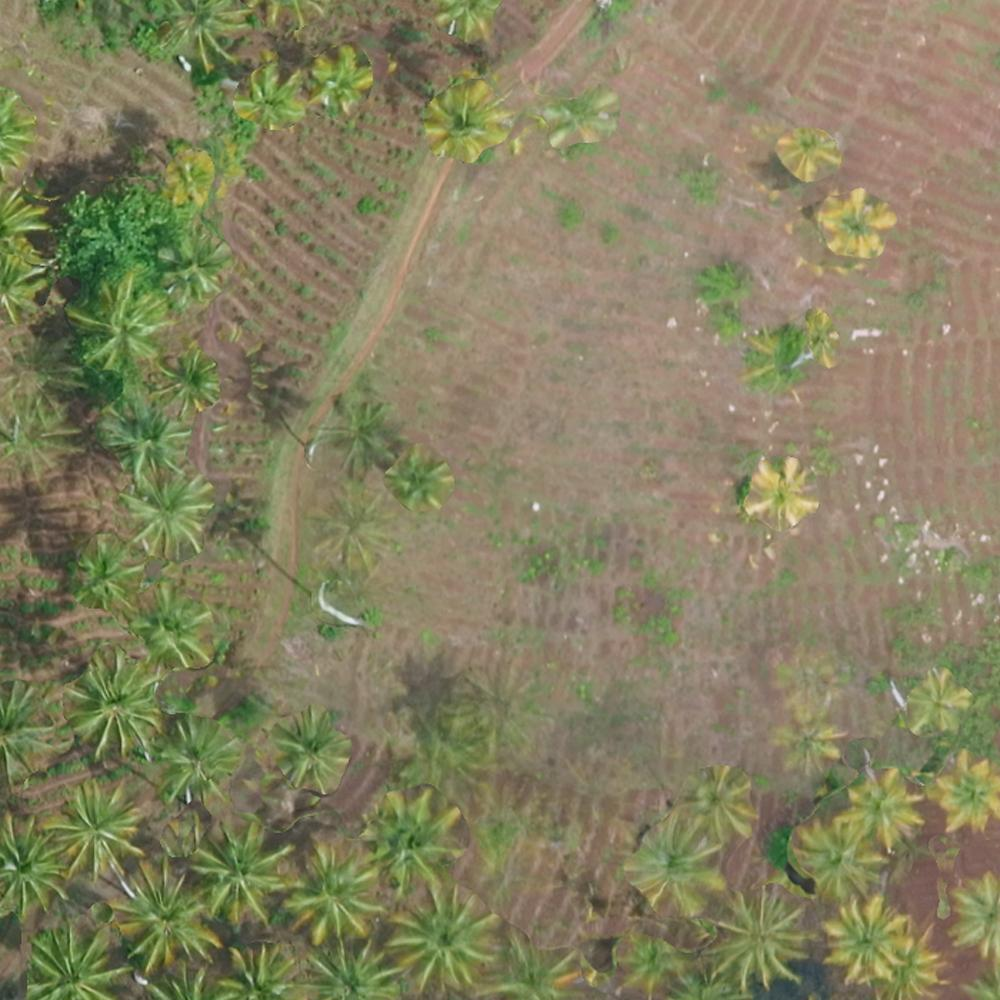Palm: (384, 889, 500, 988), (107, 866, 216, 960), (191, 821, 292, 922), (709, 890, 809, 984), (361, 789, 460, 883), (64, 657, 158, 751), (290, 838, 381, 935), (67, 278, 166, 367), (51, 782, 140, 876), (628, 824, 718, 909), (822, 899, 912, 979), (152, 719, 240, 799), (797, 813, 881, 896), (141, 586, 225, 668), (27, 924, 120, 998), (419, 82, 503, 161), (1, 812, 67, 911), (843, 768, 925, 847), (97, 405, 182, 477), (127, 479, 210, 552), (299, 941, 400, 1000), (272, 714, 353, 786), (934, 752, 1000, 834), (690, 771, 759, 845), (214, 940, 298, 1000), (821, 186, 891, 254), (305, 46, 379, 109), (769, 712, 842, 775), (746, 460, 815, 526), (907, 666, 970, 735), (71, 541, 136, 607), (159, 233, 228, 295), (945, 874, 1000, 951), (240, 65, 298, 129), (155, 349, 216, 408), (162, 145, 221, 202), (778, 130, 840, 182)
